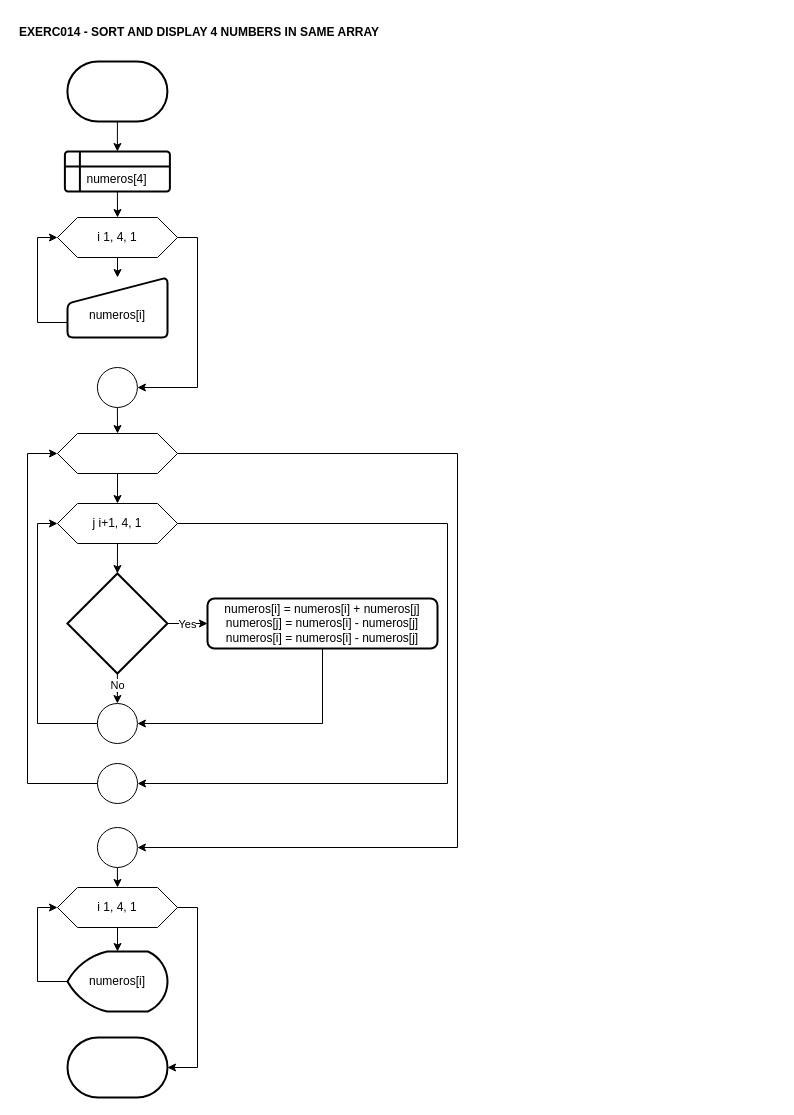
This 794x1115 diagram has some shape labels left out. The centre of each missing label's shape, as x and y in pixels:
i 1, 3, 1: the point at 117,453
numeros[j] < numeros[i]: the point at 117,623
Start: the point at 117,91
Stop: the point at 117,1067
